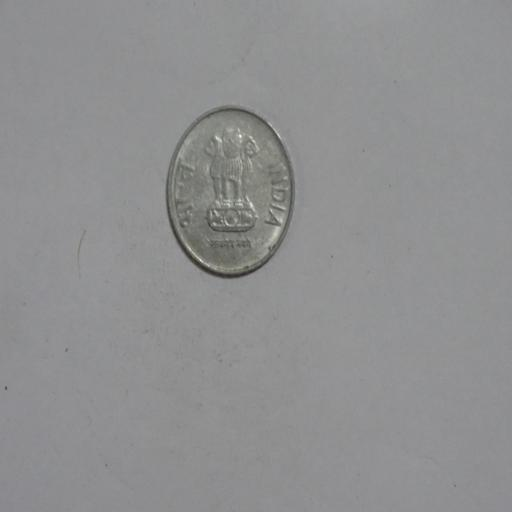rupee2: (164, 105, 295, 276)
